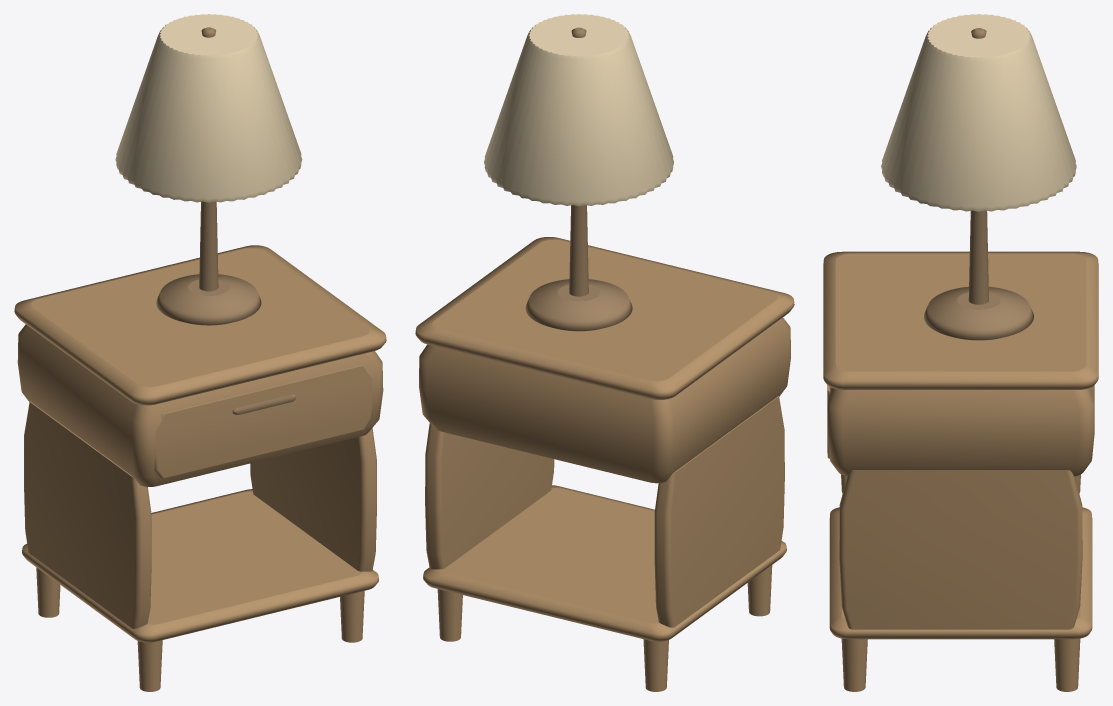
3 views of the same model, side by side, from view 1: azimuth 30°, elevation 25°; view 2: azimuth 150°, elevation 25°; view 3: azimuth 270°, elevation 25° (orthographic). The views are drawn at different scales.
Parts seen in each view (by area): view 1: Cantilevered top, Pleated shade, Open shelf, Left stile, Oak case, Drawer front, Right stile, Footed lamp base, Lamp stem, Tapered foot 1.1, Tapered foot 2.1, Tapered foot 1.2; view 2: Cantilevered top, Oak case, Pleated shade, Open shelf, Left stile, Right stile, Footed lamp base, Lamp stem, Tapered foot 1.2, Tapered foot 2.2, Tapered foot 1.1; view 3: Right stile, Cantilevered top, Pleated shade, Oak case, Open shelf, Footed lamp base, Lamp stem, Tapered foot 2.1, Tapered foot 2.2.
Part boxes in pixels (x1=…): Cantilevered top: x1=14, y1=245, x2=386, y2=405; Pleated shade: x1=115, y1=14, x2=302, y2=202; Open shelf: x1=22, y1=489, x2=378, y2=642; Left stile: x1=24, y1=401, x2=151, y2=628; Oak case: x1=17, y1=324, x2=383, y2=486; Drawer front: x1=154, y1=364, x2=372, y2=478; Right stile: x1=250, y1=428, x2=376, y2=571; Footed lamp base: x1=156, y1=274, x2=261, y2=325; Lamp stem: x1=199, y1=201, x2=218, y2=291; Tapered foot 1.1: x1=137, y1=640, x2=162, y2=691; Tapered foot 2.1: x1=340, y1=591, x2=364, y2=642; Tapered foot 1.2: x1=36, y1=567, x2=60, y2=617; Cantilevered top: x1=415, y1=237, x2=794, y2=399; Oak case: x1=419, y1=317, x2=790, y2=483; Pleated shade: x1=484, y1=14, x2=673, y2=206; Open shelf: x1=423, y1=485, x2=786, y2=641; Left stile: x1=654, y1=396, x2=784, y2=627; Right stile: x1=425, y1=423, x2=554, y2=569; Footed lamp base: x1=525, y1=279, x2=632, y2=331; Lamp stem: x1=569, y1=205, x2=588, y2=296; Tapered foot 1.2: x1=643, y1=639, x2=668, y2=691; Tapered foot 2.2: x1=437, y1=589, x2=462, y2=641; Tapered foot 1.1: x1=747, y1=565, x2=772, y2=616; Right stile: x1=839, y1=470, x2=1082, y2=629; Cantilevered top: x1=823, y1=251, x2=1098, y2=389; Pleated shade: x1=881, y1=14, x2=1076, y2=211; Oak case: x1=827, y1=385, x2=1094, y2=476; Open shelf: x1=829, y1=507, x2=1092, y2=639; Footed lamp base: x1=924, y1=286, x2=1033, y2=340; Lamp stem: x1=968, y1=210, x2=988, y2=304; Tapered foot 2.1: x1=841, y1=638, x2=867, y2=691; Tapered foot 2.2: x1=1054, y1=638, x2=1080, y2=691.
Size of the model in its own units: 0.48 by 1.06 by 0.43.
